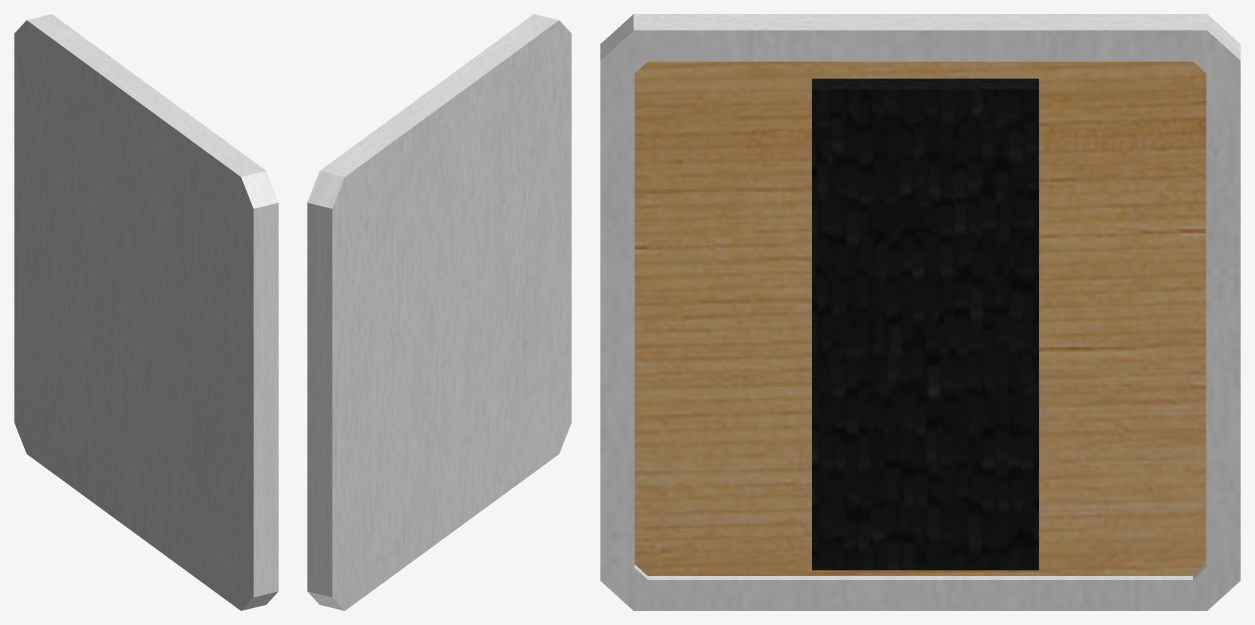
Rendered from Peça4.fbx.
3 views of the same model, side by side, from view 1: azimuth 30°, elevation 25°; view 2: azimuth 150°, elevation 25°; view 3: azimuth 270°, elevation 25° (orthographic). The views are drawn at different scales.
Visible parts, largest first — view 1: Cube.028; view 2: Cube.028; view 3: Cube.028.
Part boxes in pixels (x1=…): Cube.028: x1=14, y1=14, x2=278, y2=610; Cube.028: x1=307, y1=14, x2=571, y2=610; Cube.028: x1=600, y1=14, x2=1240, y2=610.
Bounding box in the file's own units: 3.75 × 42.45 × 42.45.
3 materials, 3 textured.
